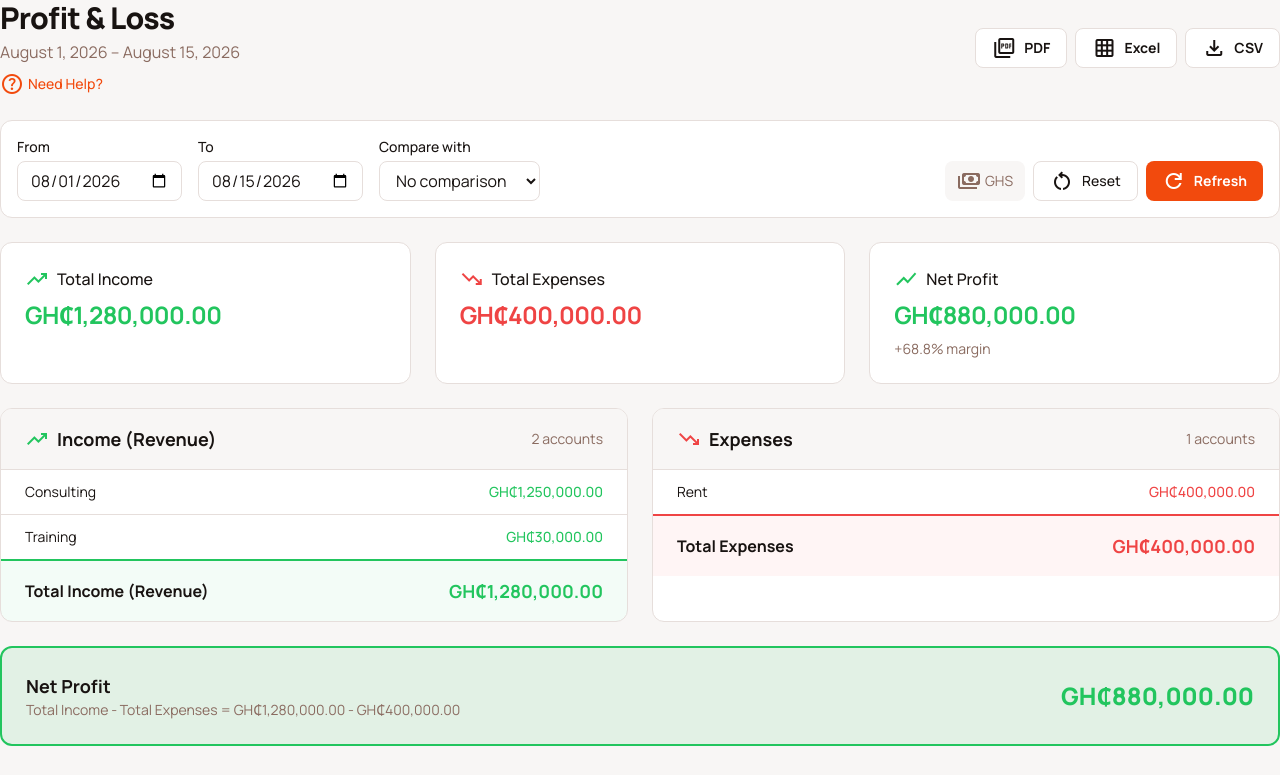
it: Profit & Loss in the shell › drops the previous column when comparison is switched off again
Expected: the text with test id "profit-loss-total-income" is shown, [25,298,221,331]
Select "Previous year" in the dropdown with test id "profit-loss-comparison": (460, 181) [379,161,540,201]
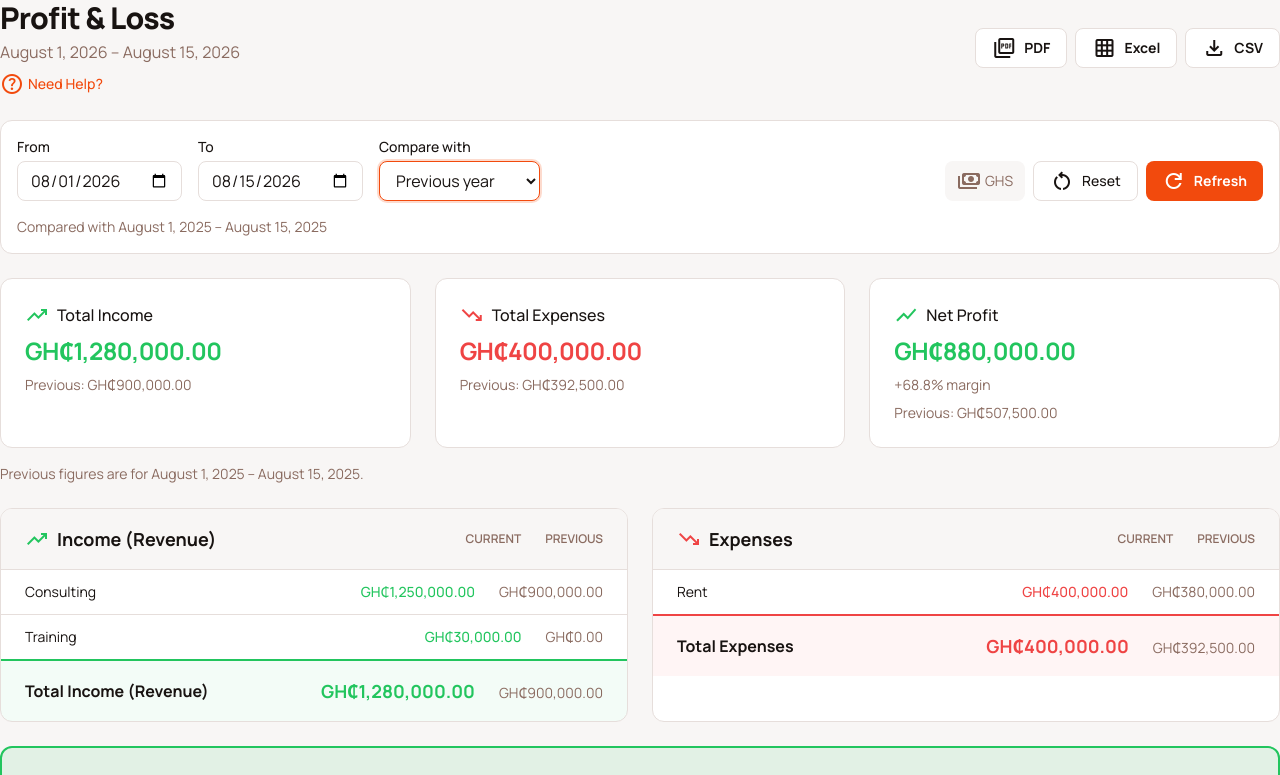
Result: the text with test id "income-item-0-previous" is shown at [499,582,603,602]
Select "No comparison" in the dropdown with test id "profit-loss-comparison": (460, 181) [379,161,540,201]
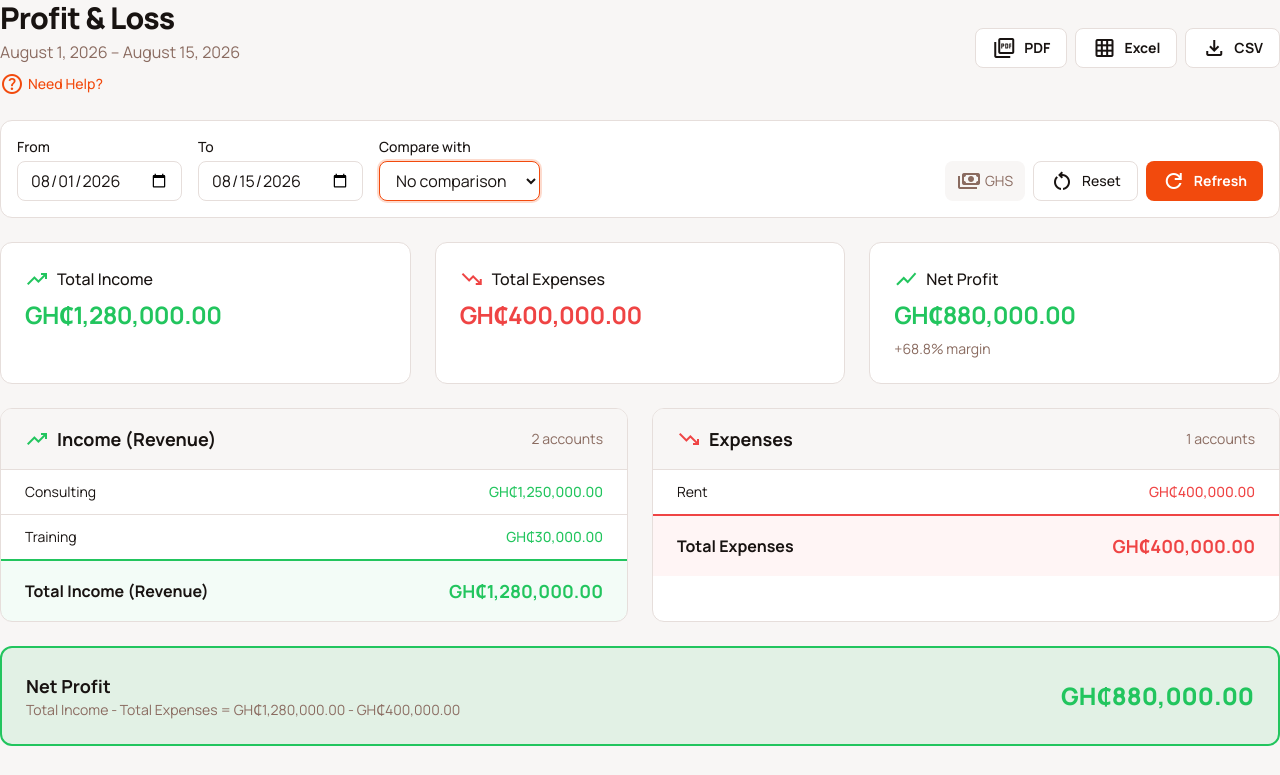
Result: the text with test id "income-item-0-previous" is gone
Result: the text with test id "profit-loss-comparison-range" is gone
